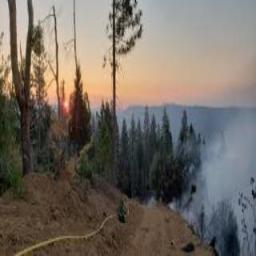Low smoke: (111, 72, 255, 255)
